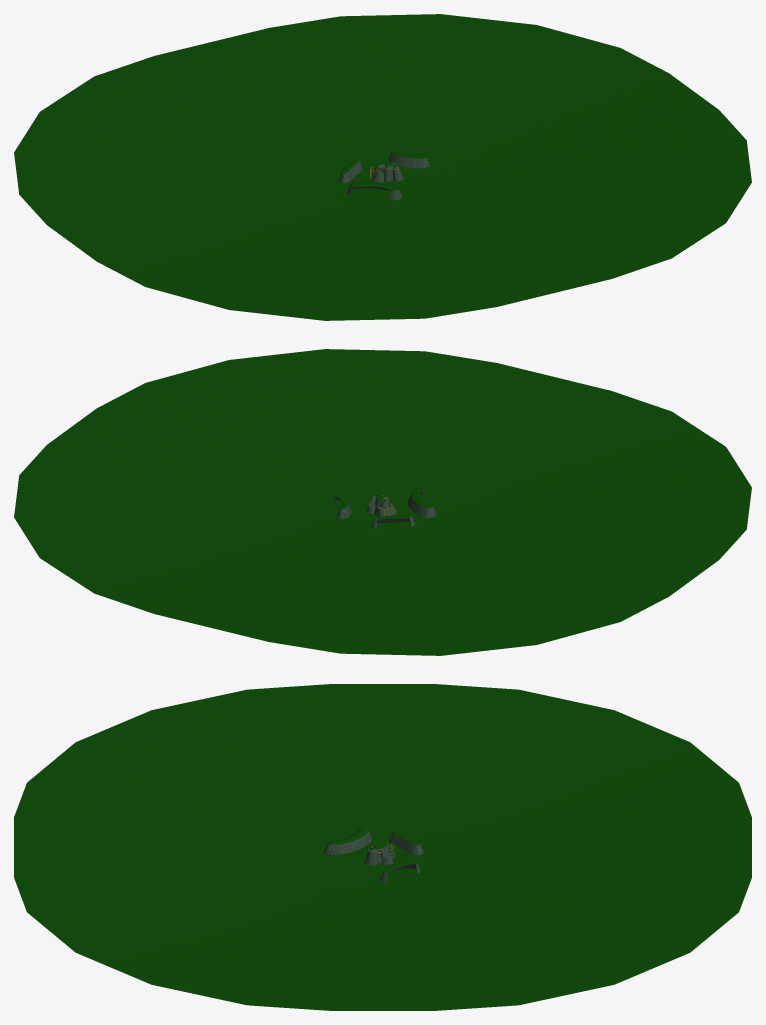
The picture shows the model from 3 angles, top to bottom: view 1: azimuth 30°, elevation 25°; view 2: azimuth 150°, elevation 25°; view 3: azimuth 270°, elevation 25°; orthographic projection. The views are drawn at different scales.
Parts seen in each view (by area): view 1: obj_grassMesh, obj_rockoutMesh; view 2: obj_grassMesh, obj_rockoutMesh; view 3: obj_grassMesh, obj_rockoutMesh.
Part boxes in pixels (x1,y1,x2,y2): obj_grassMesh: (14,14,751,320); obj_rockoutMesh: (338,152,429,200); obj_grassMesh: (14,349,751,655); obj_rockoutMesh: (333,490,436,528); obj_grassMesh: (14,684,751,1010); obj_rockoutMesh: (324,830,423,882).
Size of the model in its own units: 2535360 by 61102 by 2420428.
16 materials, 16 textured.
